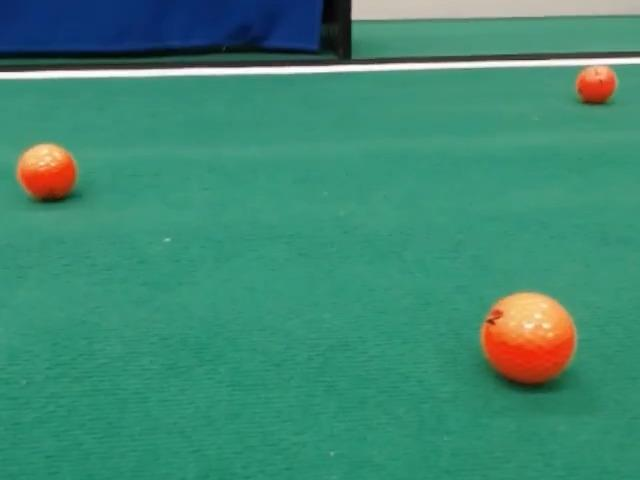Ball: (480, 292, 577, 384), (16, 143, 77, 201), (576, 65, 617, 103)
